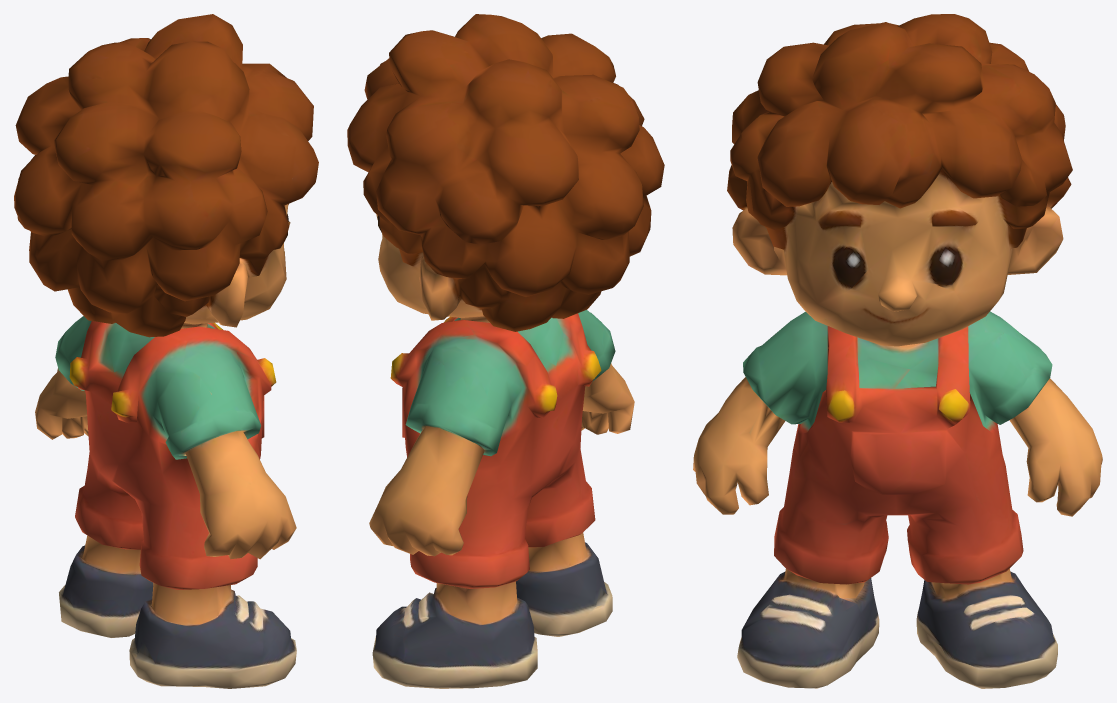
The model's file is child.glb.
The picture shows the model from 3 angles, left to right: view 1: azimuth 30°, elevation 25°; view 2: azimuth 150°, elevation 25°; view 3: azimuth 270°, elevation 25°; orthographic projection. The views are drawn at different scales.
Parts seen in each view (by area): view 1: child-body; view 2: child-body; view 3: child-body.
Part boxes in pixels (box(x1,y1,x2,y2)): child-body: box(14, 14, 318, 688); child-body: box(347, 14, 664, 688); child-body: box(693, 14, 1102, 688).
Bounding box in the file's own units: 0.4745 × 1 × 0.5826.
Materials: 1 (1 with a texture image).
